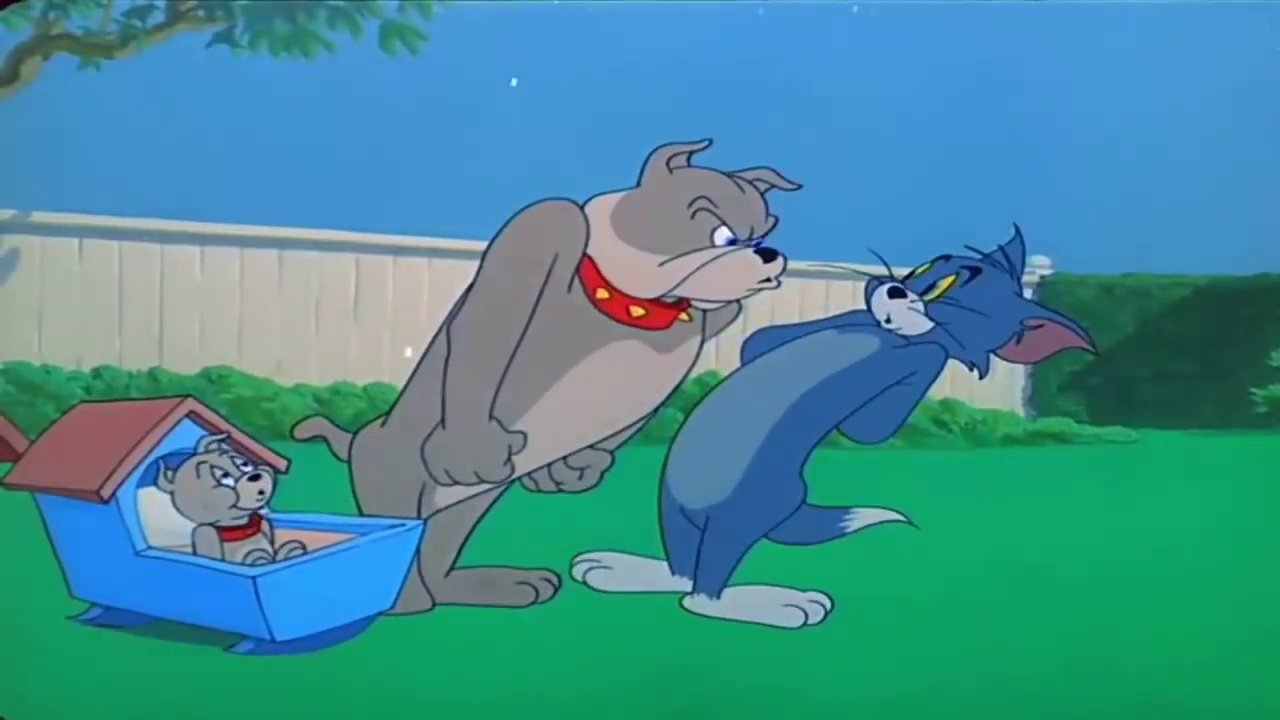spike: (568, 138, 803, 333)
tom: (858, 224, 1100, 381)
